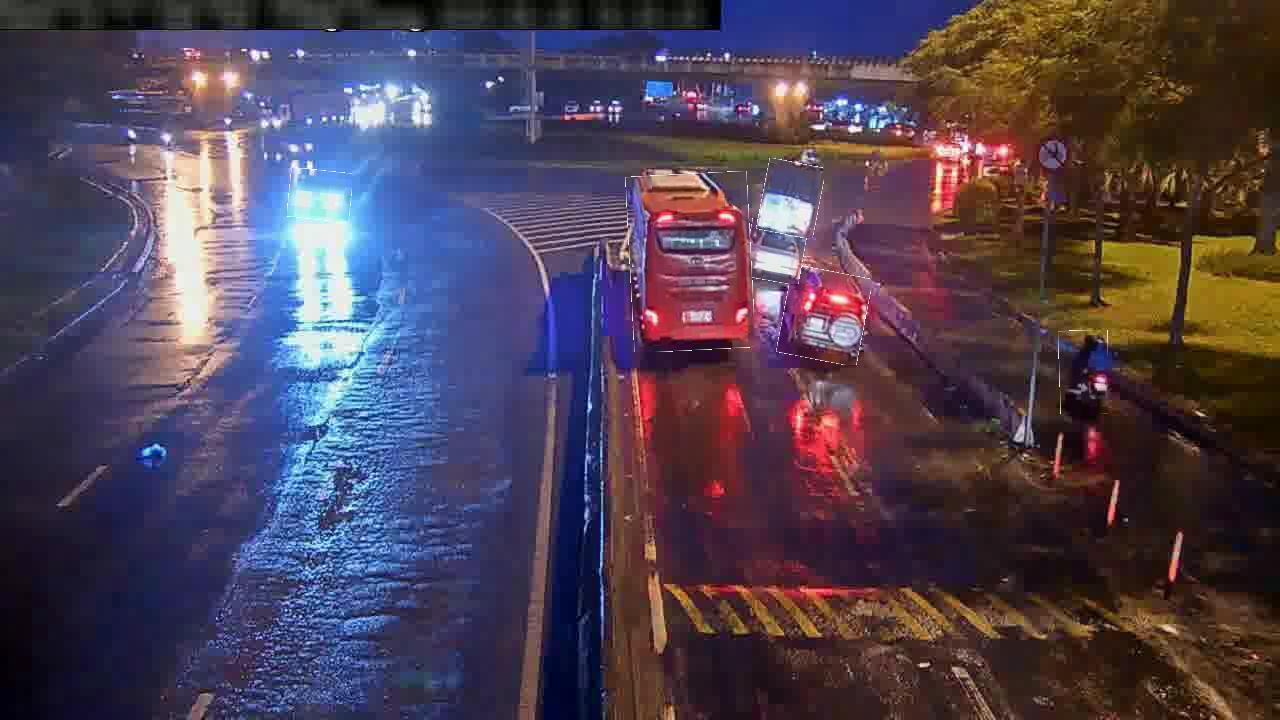14: (628, 172, 753, 352)
8: (759, 161, 822, 237)
container: (780, 268, 869, 363), (746, 219, 806, 283), (288, 169, 352, 221)
motorbike: (1059, 331, 1109, 415)
